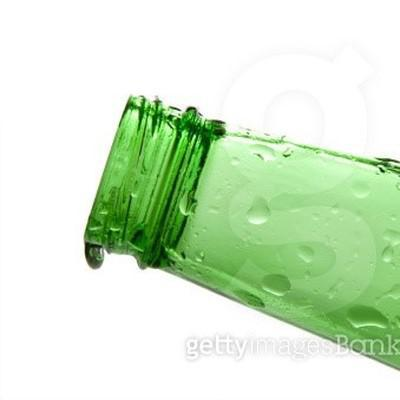beer: (84, 94, 400, 370)
